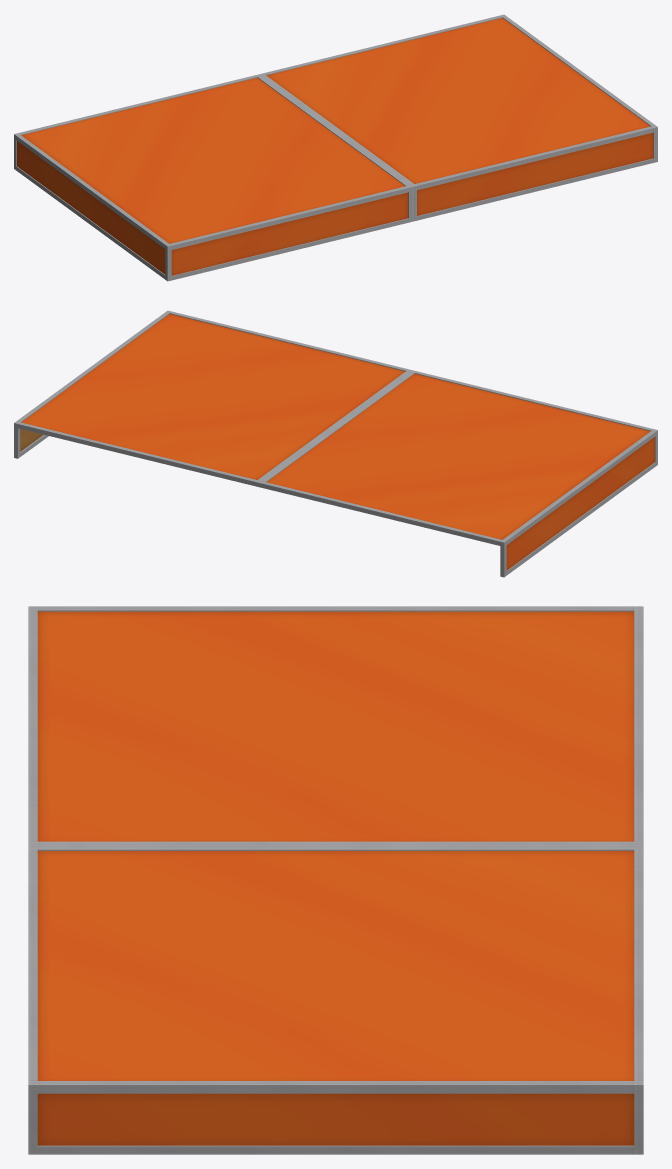
File: jsf_2P_s01_c01_t01_DX.fbx
The picture shows the model from 3 angles, top to bottom: view 1: azimuth 30°, elevation 25°; view 2: azimuth 150°, elevation 25°; view 3: azimuth 270°, elevation 25°; orthographic projection. The views are drawn at different scales.
Visible parts, largest first — view 1: jsf_2P_s01_c01_t01_DX; view 2: jsf_2P_s01_c01_t01_DX; view 3: jsf_2P_s01_c01_t01_DX.
Part boxes in pixels (x1,y1,x2,y2): jsf_2P_s01_c01_t01_DX: (14,14,657,281); jsf_2P_s01_c01_t01_DX: (14,310,657,577); jsf_2P_s01_c01_t01_DX: (28,606,643,1154).
Size of the model in its own units: 184 by 12.51 by 100.
